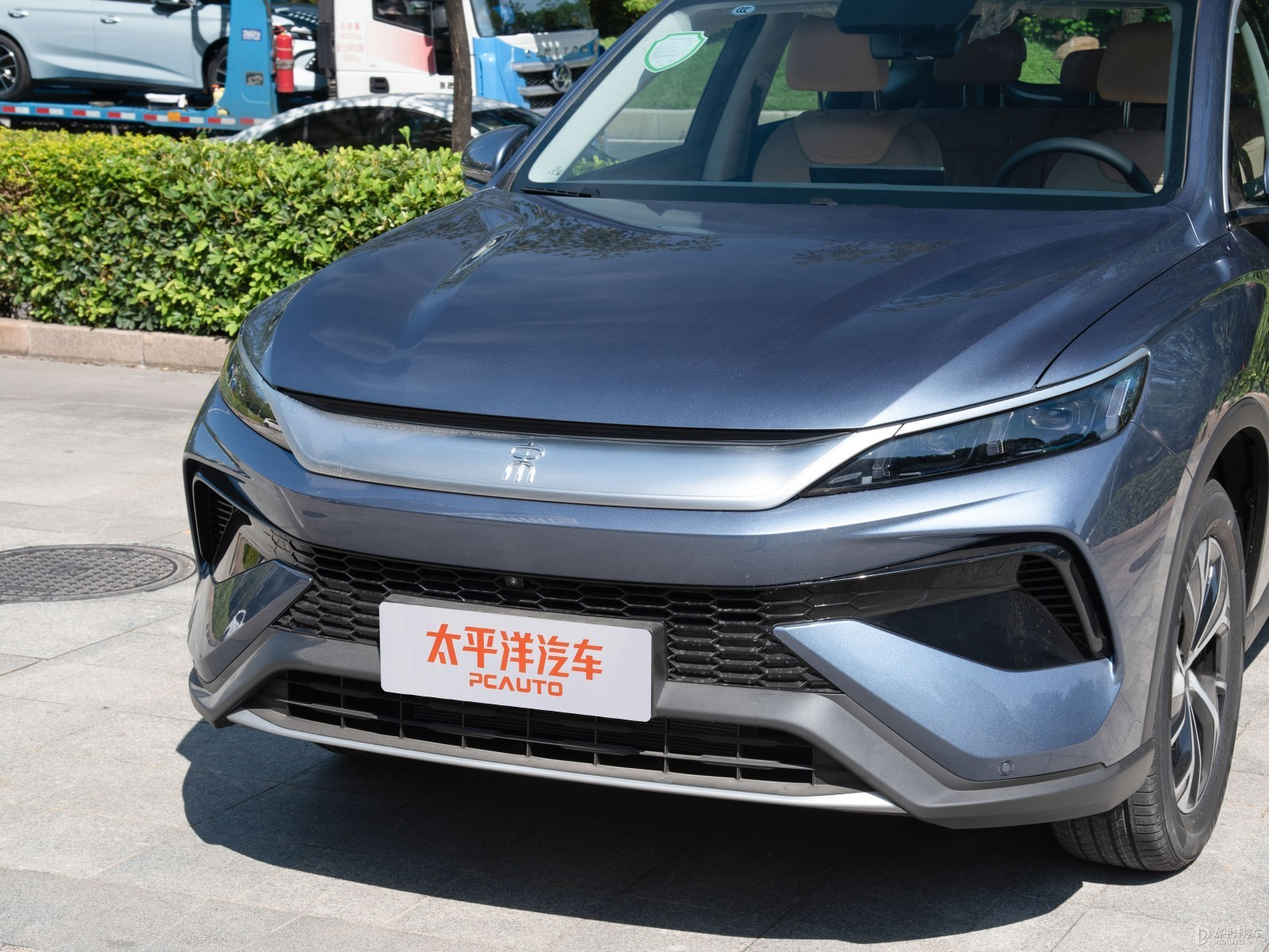BYD Song: (503, 443, 545, 482)
